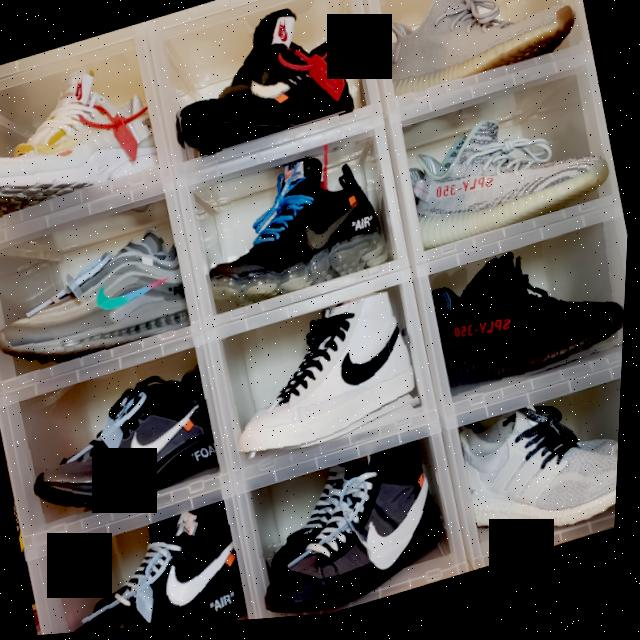shoe: (245, 444, 463, 624), (216, 292, 430, 473), (428, 229, 631, 410), (191, 145, 399, 319), (404, 93, 619, 258), (20, 365, 229, 529), (156, 0, 360, 168), (0, 223, 198, 383), (458, 383, 625, 562), (0, 55, 167, 228), (41, 505, 261, 636), (372, 0, 584, 107)
